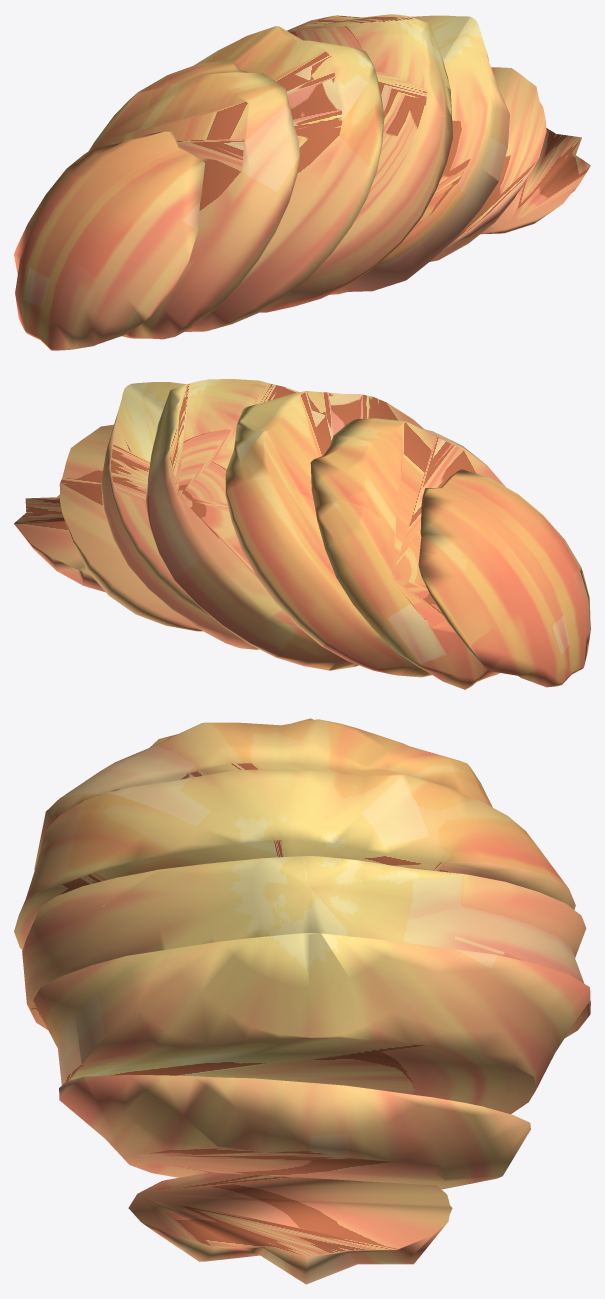
File: cut onion.fbx
3 renders of one model, top to bottom at view 1: azimuth 30°, elevation 25°; view 2: azimuth 150°, elevation 25°; view 3: azimuth 270°, elevation 25°, orthographic. The views are drawn at different scales.
Parts seen in each view (by area): view 1: Sphere.003; view 2: Sphere.003; view 3: Sphere.003.
Boxes of the visible parts, x1=… form: Sphere.003: x1=14, y1=14, x2=590, y2=350; Sphere.003: x1=14, y1=379, x2=590, y2=689; Sphere.003: x1=14, y1=718, x2=590, y2=1284.
Size of the model in its own units: 392 by 158 by 213.
